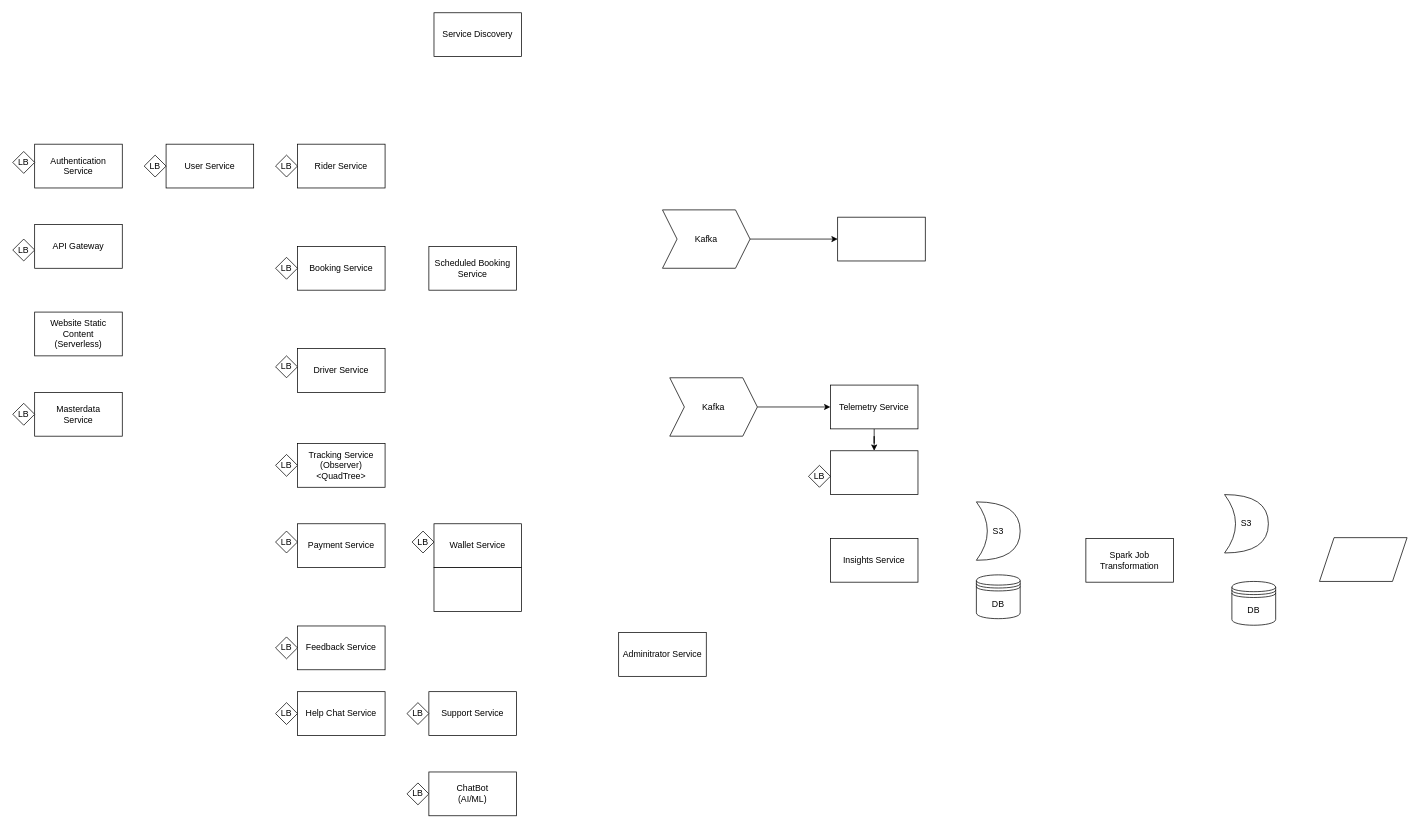
The diagram is 1420 pixels wide and 829 high, and some of its shapes have lost their labels. Each missing label, with the centre of its shape:
"Ledger Service" goes at point 477,589.
"Notification Service" goes at point 881,238.
"Telemtry Search Service" goes at point 874,472.
